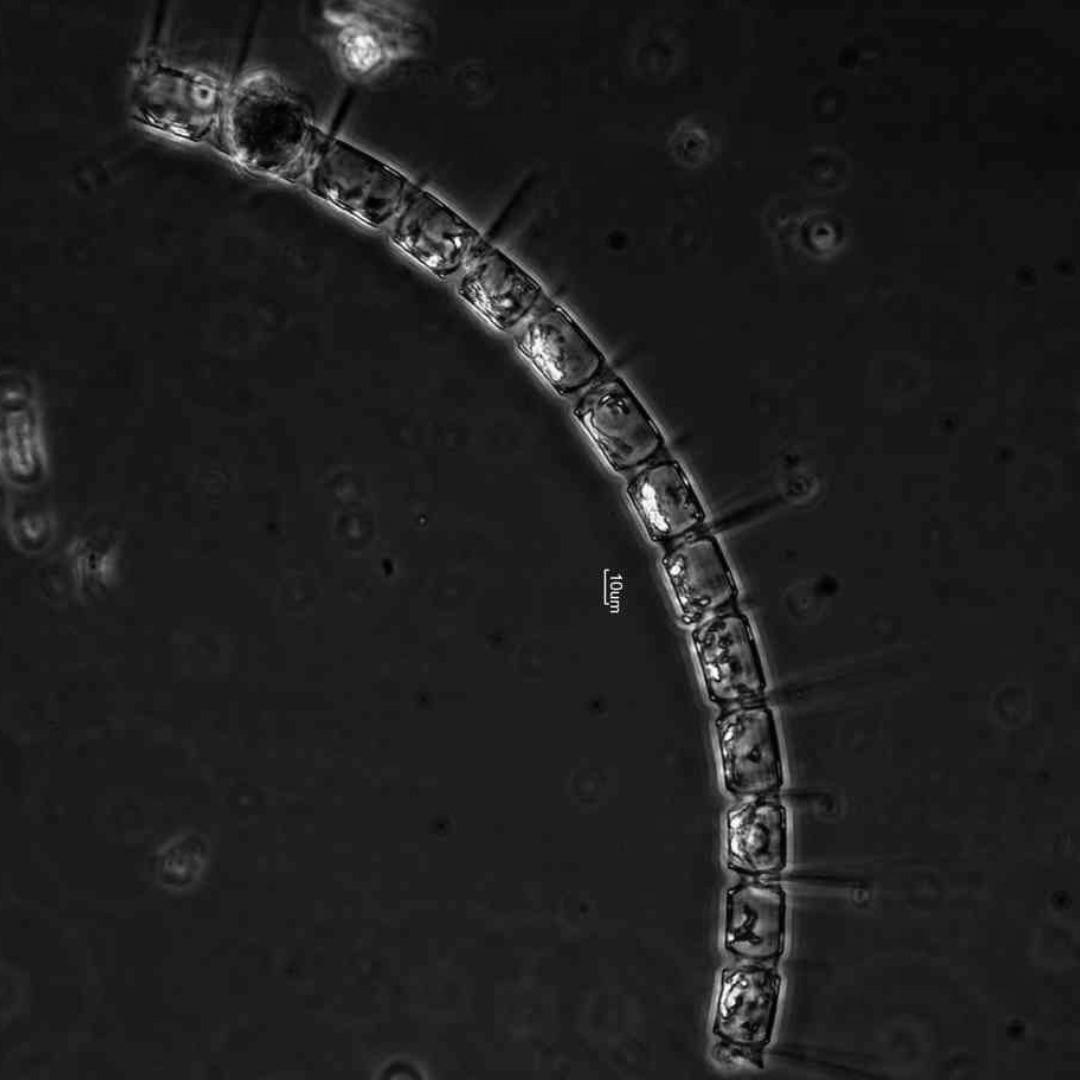chaetoceros_curvisetus: (130, 10, 888, 1068)
